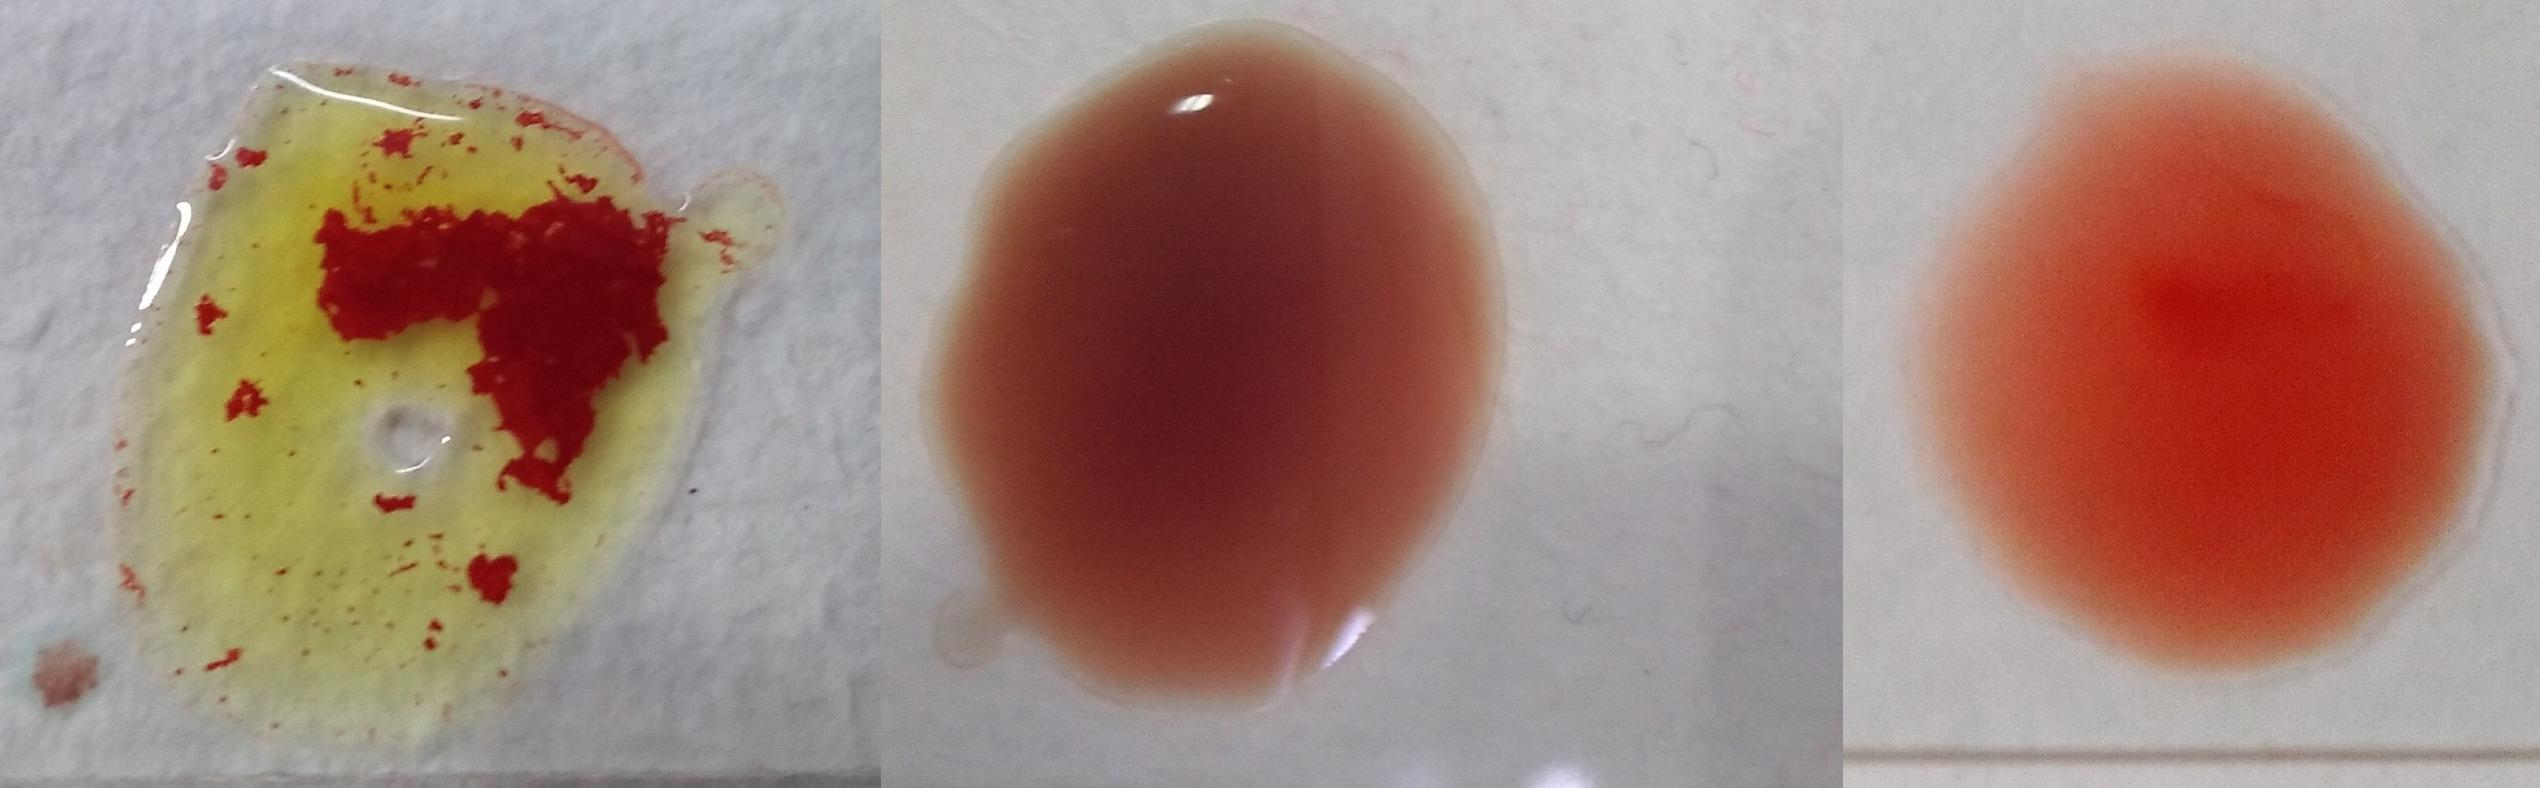B: (128, 68, 718, 730)
